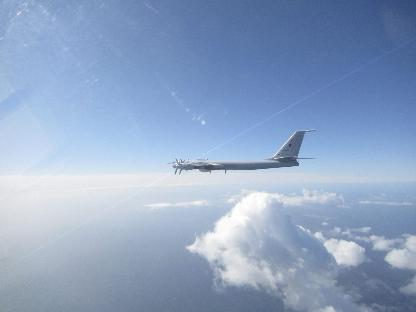Su57: (167, 128, 315, 174)
